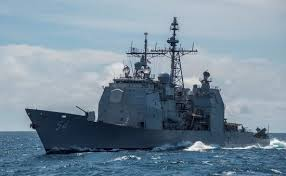tau_muctieu: (29, 41, 274, 151)
